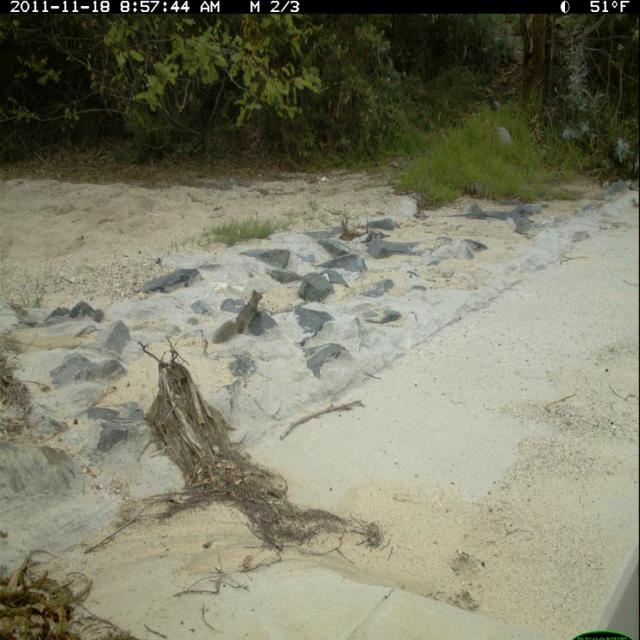squirrel: (211, 288, 268, 346)
